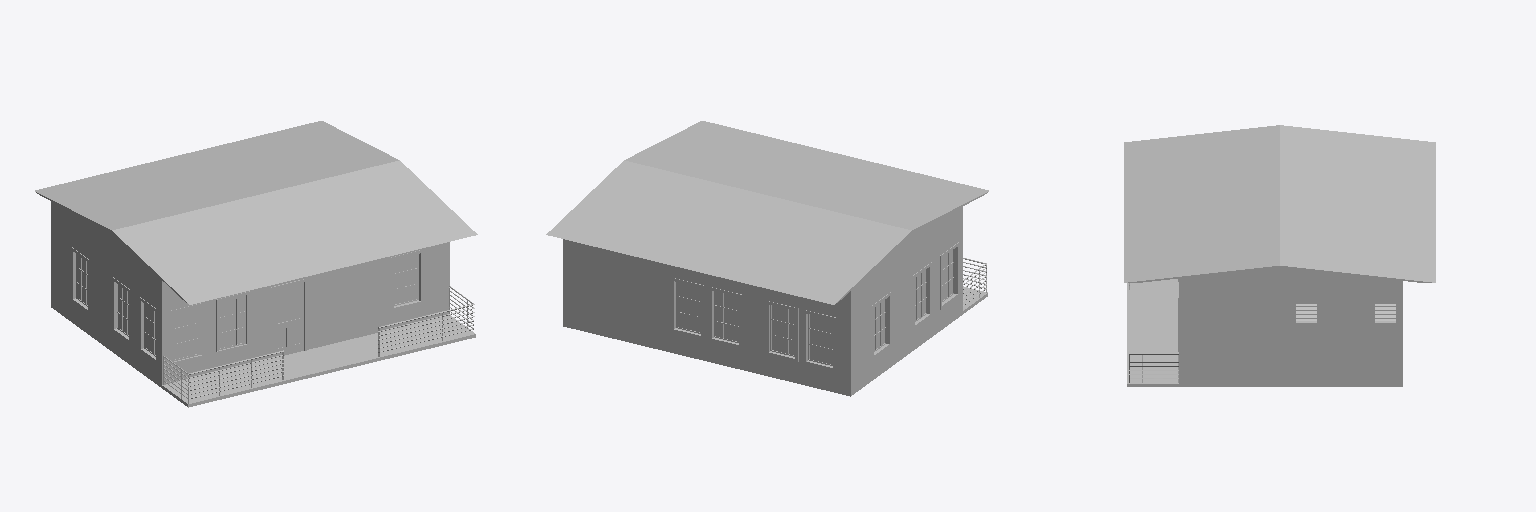
The model's file is compactHouse.obj.
3 views of the same model, side by side, from view 1: azimuth 30°, elevation 25°; view 2: azimuth 150°, elevation 25°; view 3: azimuth 270°, elevation 25° (orthographic).
Parts seen in each view (by area): view 1: obj1; view 2: obj1; view 3: obj1.
Part boxes in pixels (x1,y1,x2,y2): obj1: (35,121,477,407); obj1: (546,121,988,396); obj1: (1124,125,1435,386).
Bounding box in the file's own units: 9.19 × 3.68 × 8.6.